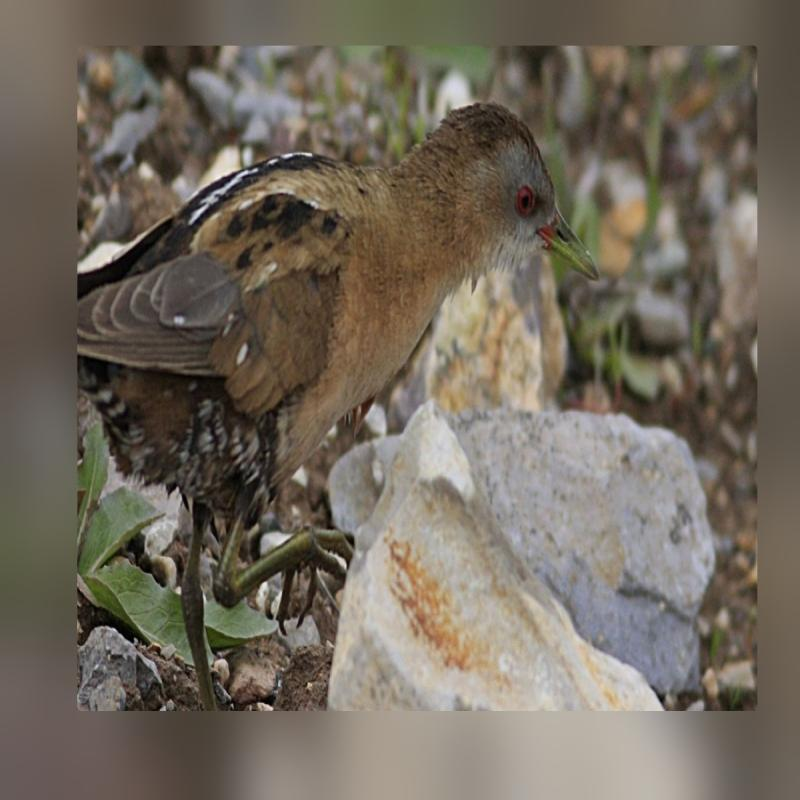little crake: (74, 93, 606, 702)
